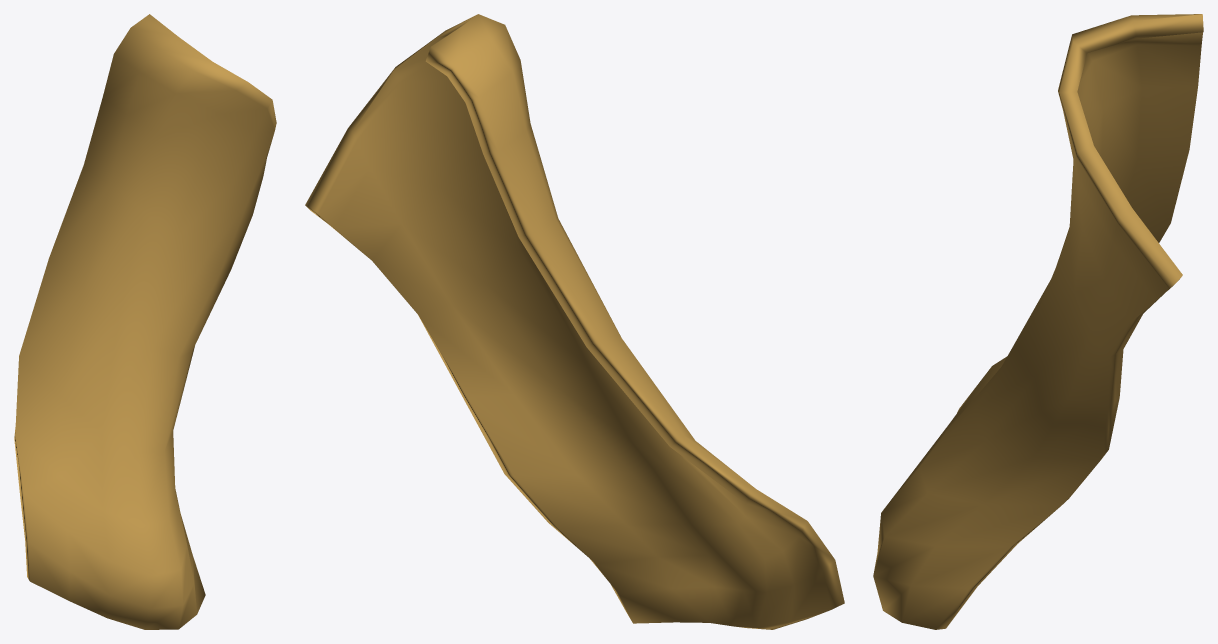
3 views of the same model, side by side, from view 1: azimuth 30°, elevation 25°; view 2: azimuth 150°, elevation 25°; view 3: azimuth 270°, elevation 25° (orthographic). The views are drawn at different scales.
Parts seen in each view (by area): view 1: 右侧内侧半月板后半月板胫骨韧带; view 2: 右侧内侧半月板后半月板胫骨韧带; view 3: 右侧内侧半月板后半月板胫骨韧带.
Boxes of the visible parts, box(x1,y1,x2,y2) form: 右侧内侧半月板后半月板胫骨韧带: box(14, 14, 276, 629); 右侧内侧半月板后半月板胫骨韧带: box(305, 14, 844, 629); 右侧内侧半月板后半月板胫骨韧带: box(873, 14, 1203, 629).
Bounding box in the file's own units: 0.0199 × 0.0295 × 0.0135.
